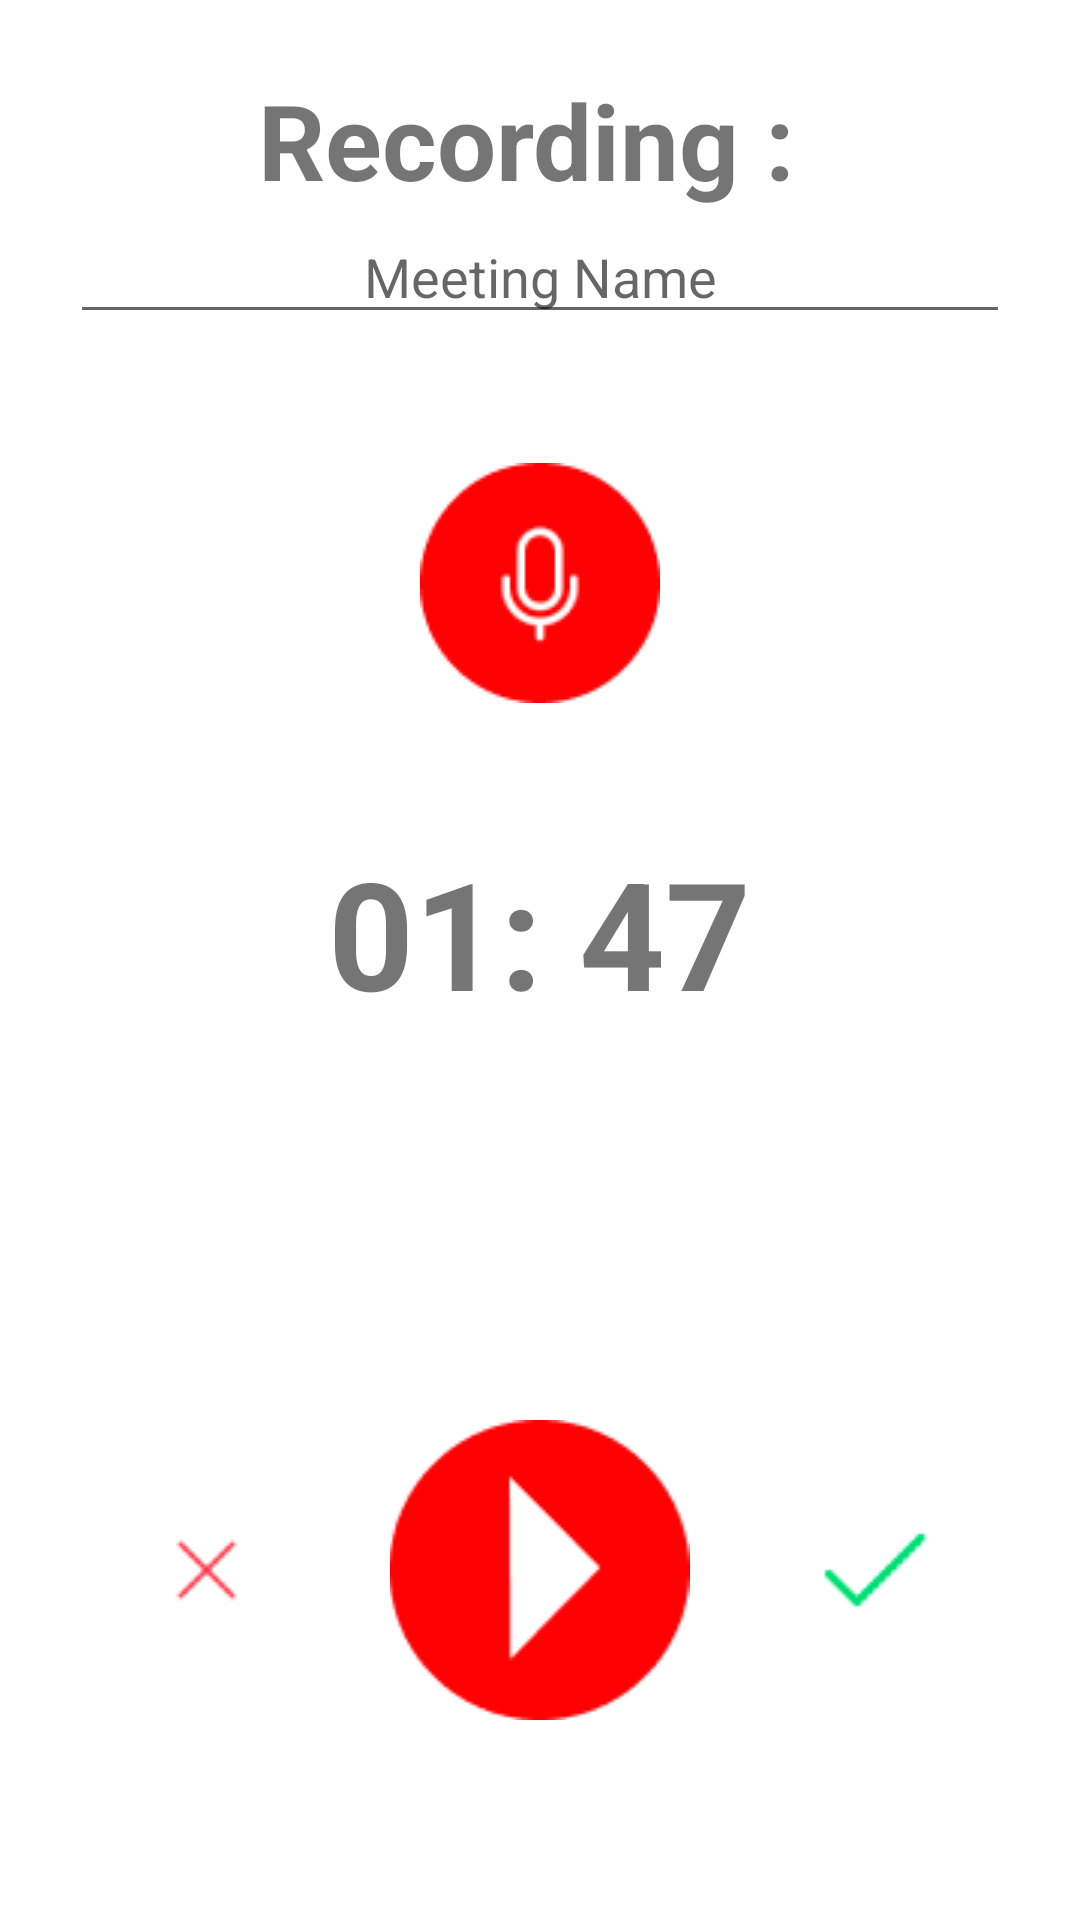

Icons on this 1080 x 1920 Android screen, each with its box as rect(x1, y1, x2, y2):
cross: rect(176, 1540, 237, 1600)
mic: rect(420, 463, 660, 703)
play: rect(390, 1420, 690, 1720)
tick: rect(824, 1533, 928, 1607)
